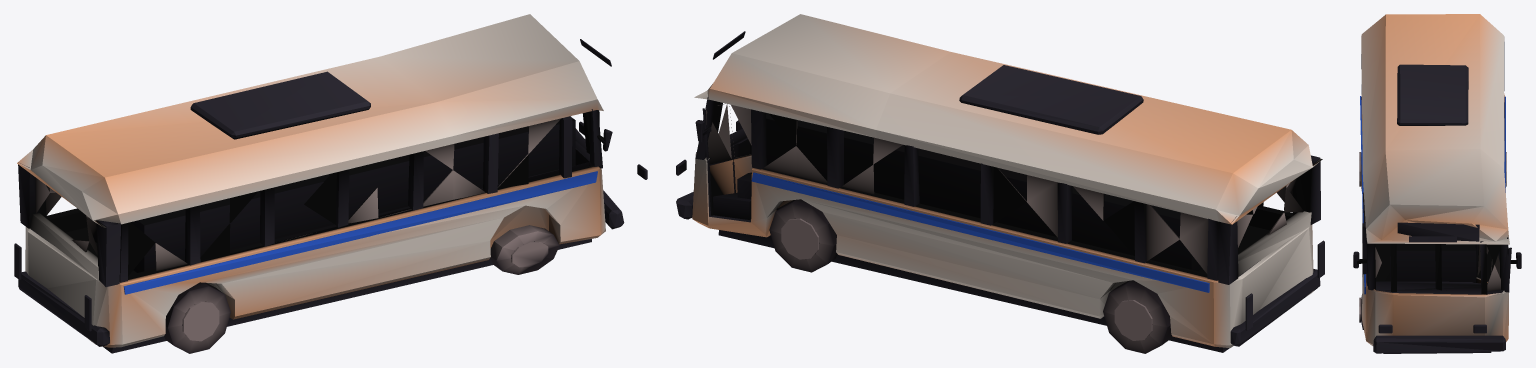
File: model.wrecked.lod2.glb
The picture shows the model from 3 angles, left to right: view 1: azimuth 30°, elevation 25°; view 2: azimuth 150°, elevation 25°; view 3: azimuth 270°, elevation 25°; orthographic projection. The views are drawn at different scales.
Parts seen in each view (by area): view 1: body_pal_picketWhite.001, body_pal_uiDark.001, body_pal_sidewalk.001, body_pal_policeBlue.001, wheelRL_pal_sidewalk, wheelFL_pal_sidewalk; view 2: body_pal_picketWhite.001, body_pal_uiDark.001, body_pal_sidewalk.001, body_pal_policeBlue.001, wheelRR_pal_sidewalk, wheelFR_pal_sidewalk; view 3: body_pal_picketWhite.001, body_pal_uiDark.001, body_pal_sidewalk.001, body_pal_policeBlue.001.
Part boxes in pixels (<box>): body_pal_picketWhite.001: <box>17,14,605,347</box>; body_pal_uiDark.001: <box>14,39,647,353</box>; body_pal_sidewalk.001: <box>35,118,576,275</box>; body_pal_policeBlue.001: <box>123,171,597,294</box>; wheelRL_pal_sidewalk: <box>164,282,230,353</box>; wheelFL_pal_sidewalk: <box>490,225,559,274</box>; body_pal_picketWhite.001: <box>692,14,1322,347</box>; body_pal_uiDark.001: <box>676,31,1324,352</box>; body_pal_sidewalk.001: <box>706,103,1303,273</box>; body_pal_policeBlue.001: <box>751,172,1209,292</box>; wheelRR_pal_sidewalk: <box>1103,280,1171,353</box>; wheelFR_pal_sidewalk: <box>769,199,837,272</box>; body_pal_picketWhite.001: <box>1361,14,1509,345</box>; body_pal_uiDark.001: <box>1353,42,1521,353</box>; body_pal_sidewalk.001: <box>1375,244,1508,291</box>; body_pal_policeBlue.001: <box>1360,96,1505,294</box>.
Size of the model in its own units: 9.25 by 2.99 by 2.96.
